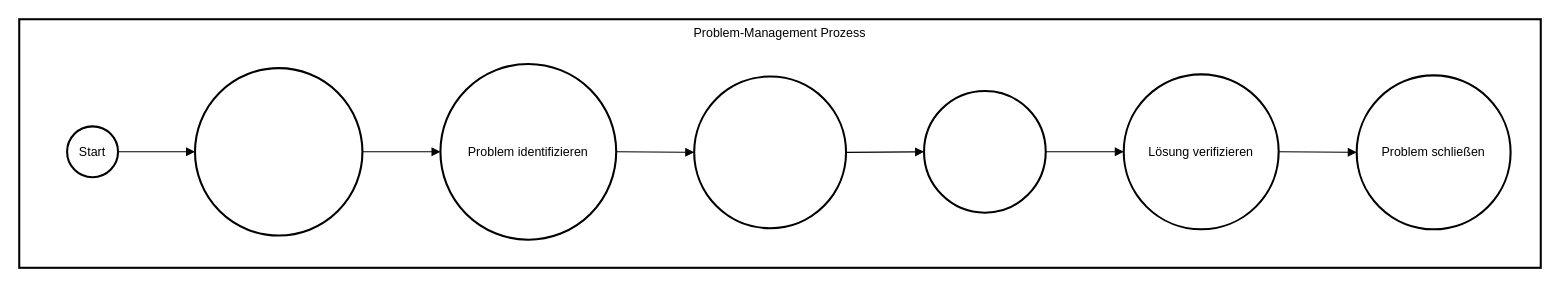
Image size: 1559x286. Some labels were removed from this diagram. Here are the shapes that lost their labels. From the top down, the centre of each, then its label:
At point 278,151: "Problem analysieren".
At point 770,152: "Problem zuweisen".
At point 984,151: "Problem lösen".
